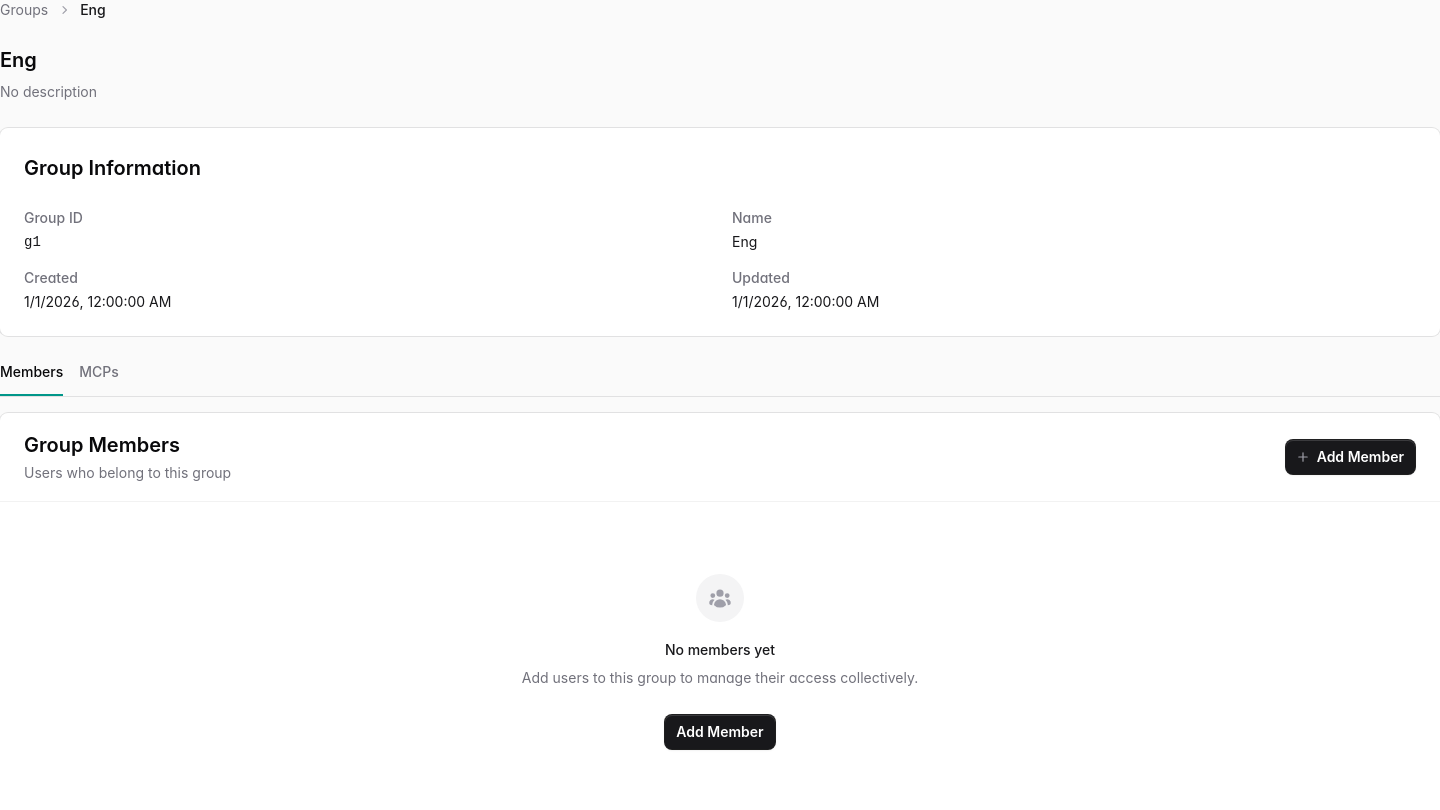
Test: group MCP grants: tool policy › keeps this grant’s own rule names visible even if the picker does not list them
Click the tab "MCPs" at (99,378), box x1=79 y1=360 x2=119 y2=396
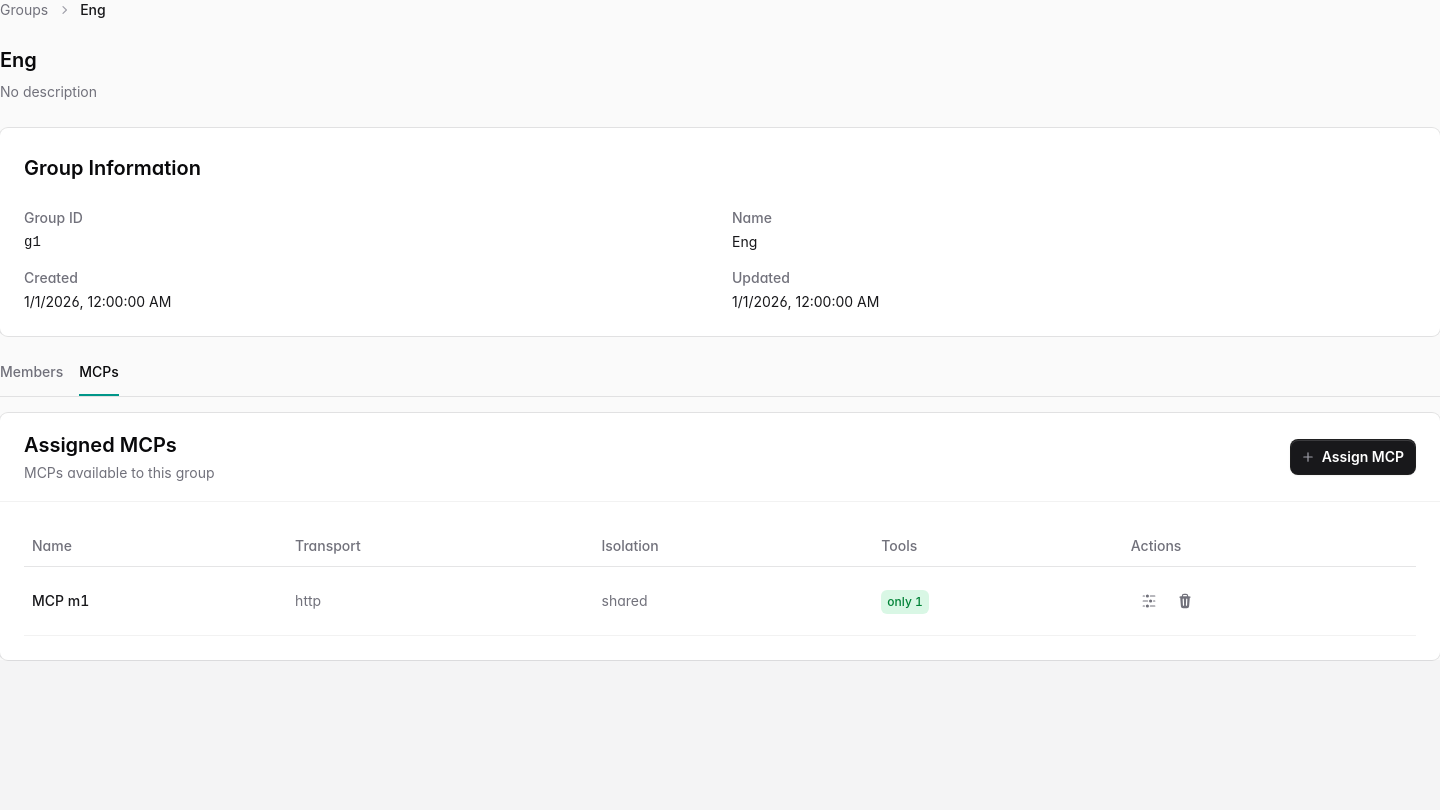
Click the button with test id "edit-policy-m1" at (1149,601), box x1=1131 y1=583 x2=1167 y2=619
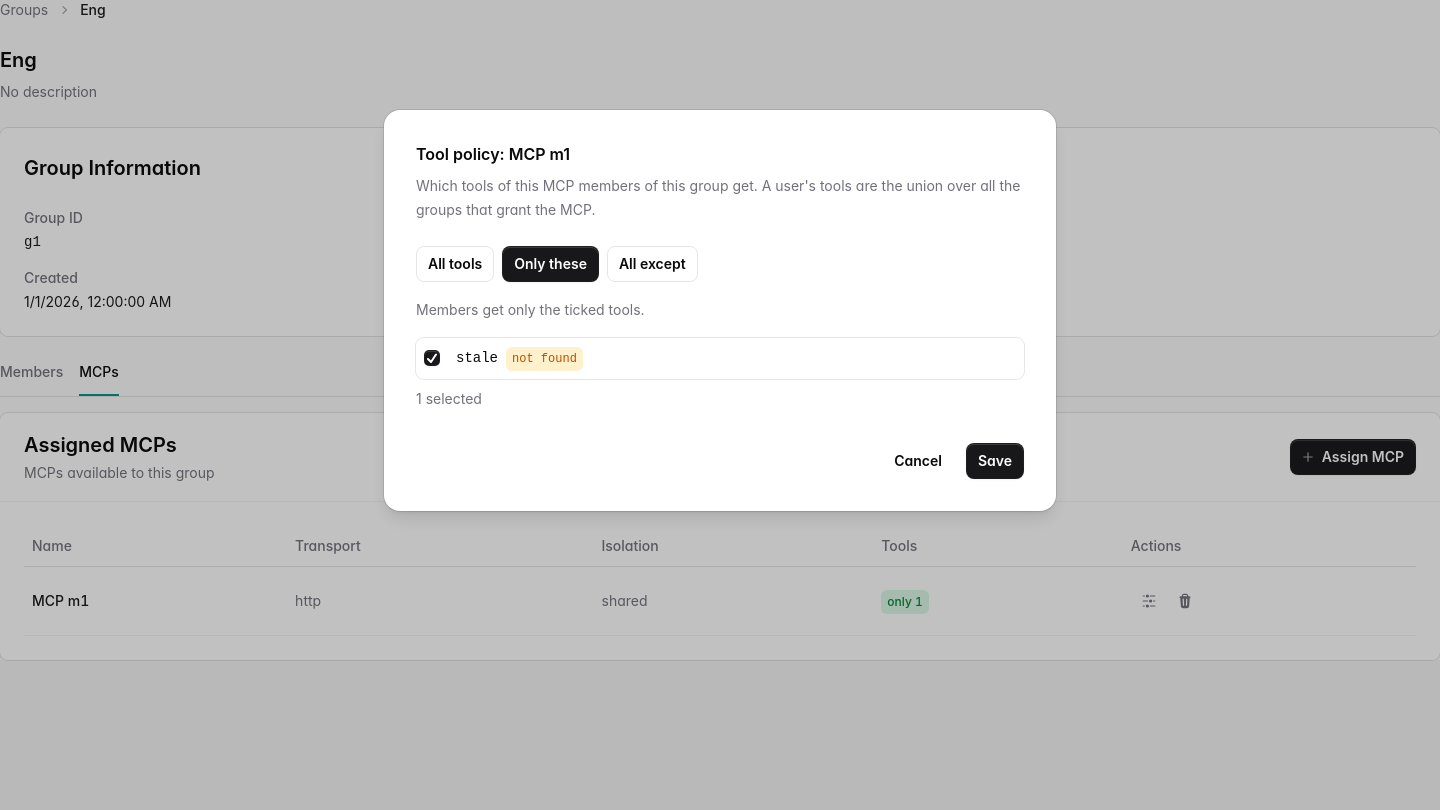
expect the text "not found" is shown: met, box x1=506 y1=347 x2=583 y2=371
